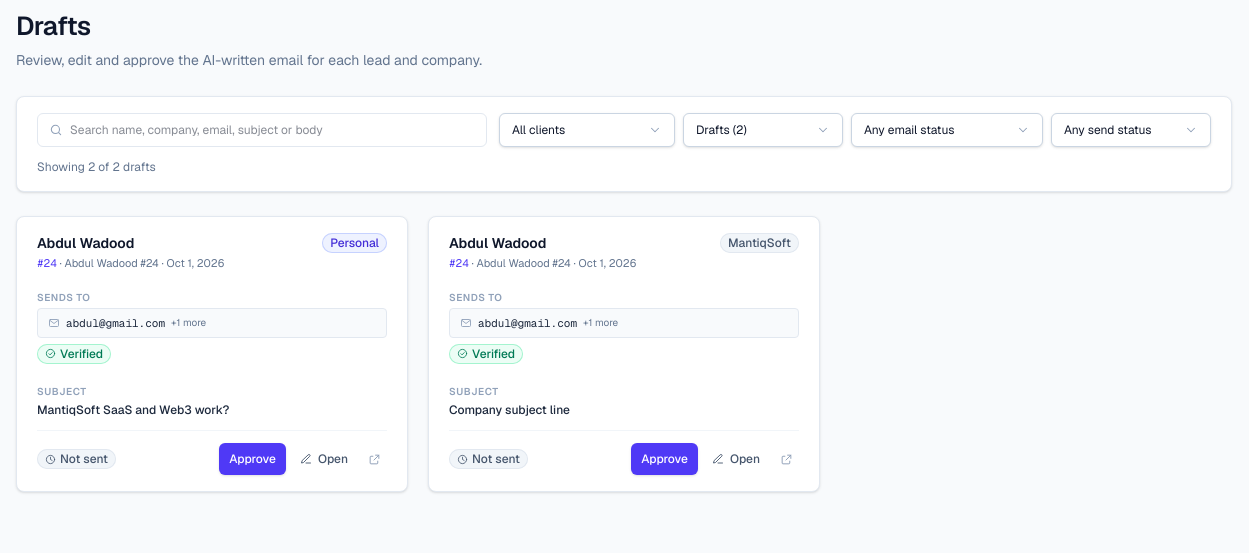
DraftsPage › surfaces the server reason when approval is refused
Check: the text "Showing 2 of 2 drafts" is shown, box [37,159,156,175]
Click the button "Approve" below "MantiqSoft SaaS and Web3 work?".
click(253, 459)  # box [219,443,286,475]
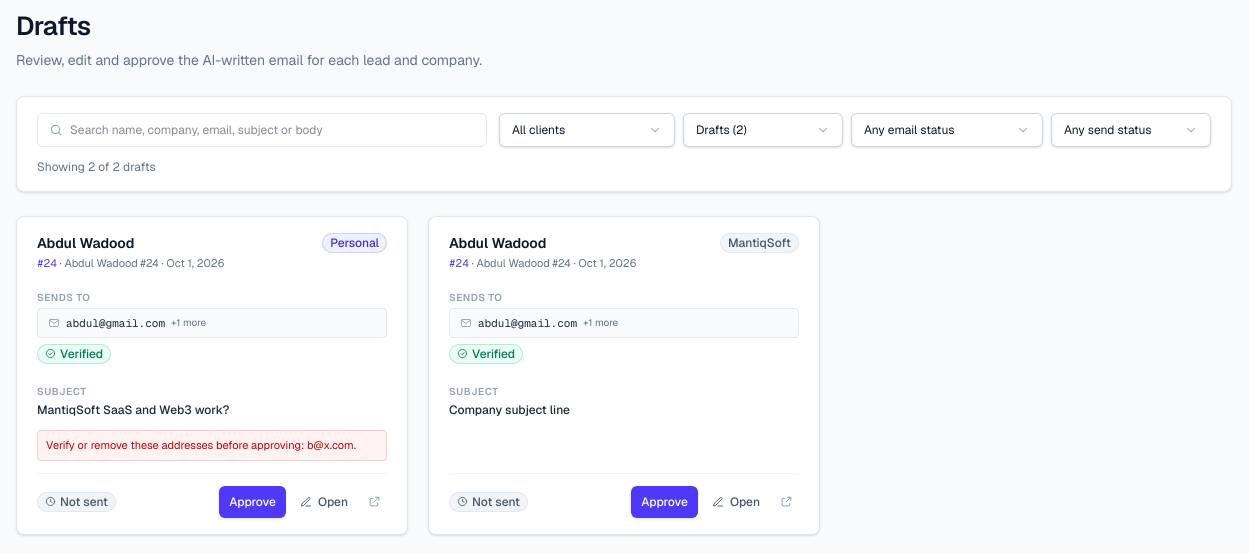
Check: the message shows "b@x.com", box [46,438,356,452]
